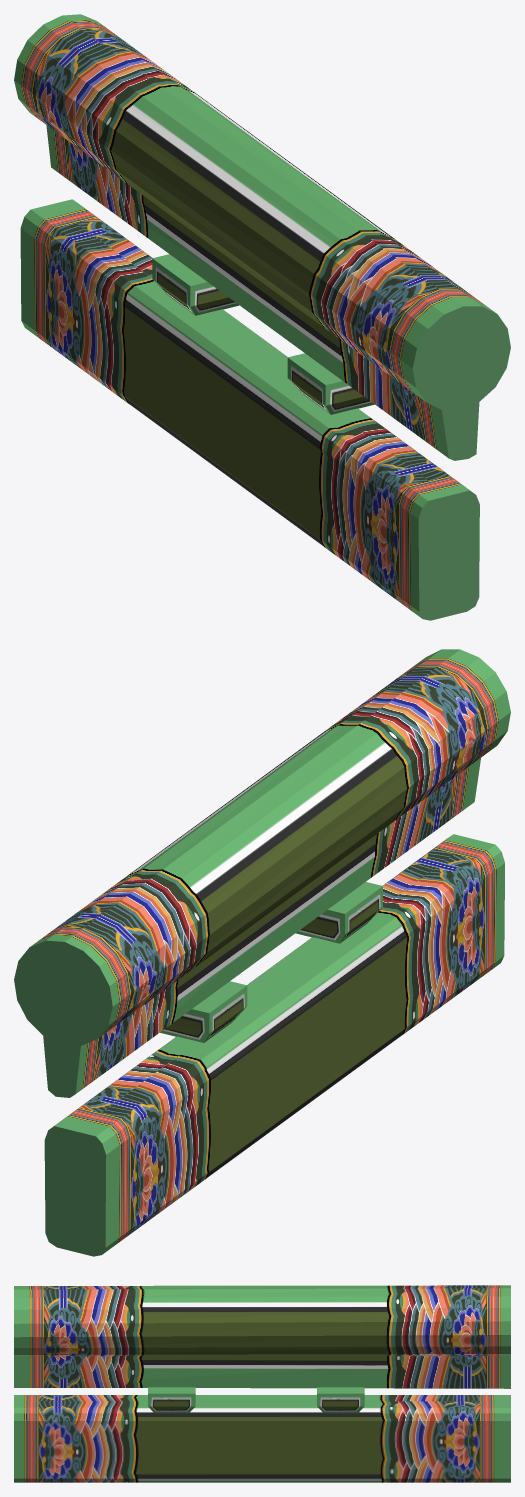
The model's file is SM_R_Dancheong_16.fbx.
3 views of the same model, one above another, from view 1: azimuth 30°, elevation 25°; view 2: azimuth 150°, elevation 25°; view 3: azimuth 270°, elevation 25° (orthographic). The views are drawn at different scales.
Parts seen in each view (by area): view 1: SM_R_Dancheong_16; view 2: SM_R_Dancheong_16; view 3: SM_R_Dancheong_16.
Part boxes in pixels (x1,y1,x2,y2): SM_R_Dancheong_16: (14,14,510,620); SM_R_Dancheong_16: (14,649,510,1256); SM_R_Dancheong_16: (14,1285,510,1482).
Bounding box in the file's own units: 24.84 × 173 × 73.51.
2 materials, 2 textured.
